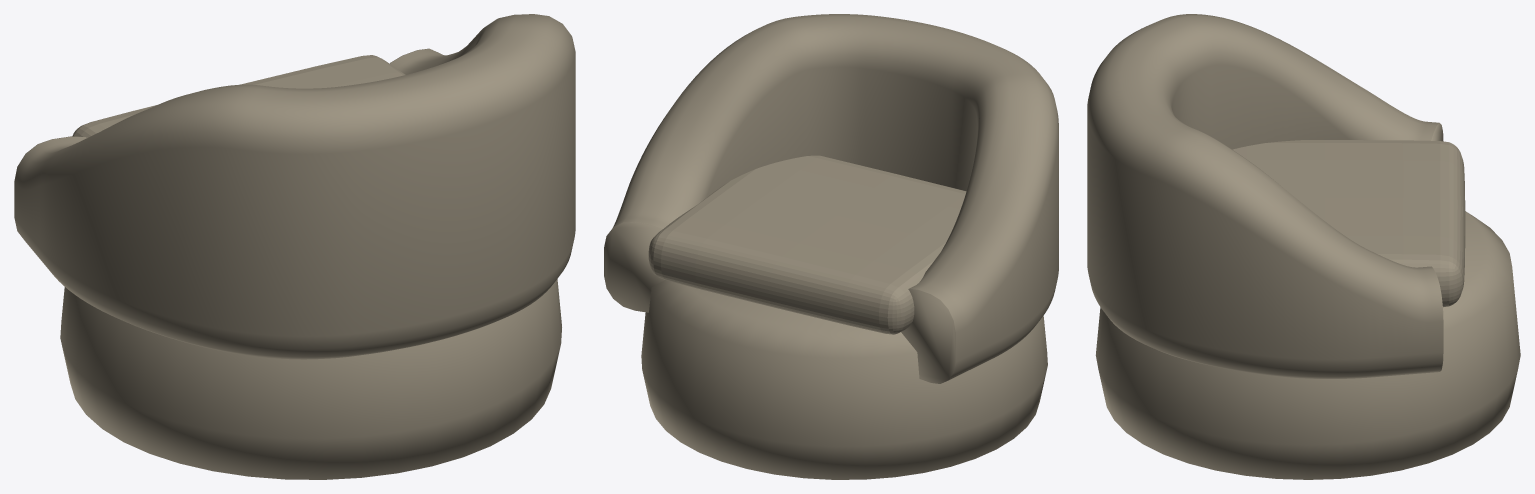
File: lounge-chair.glb
3 views of the same model, side by side, from view 1: azimuth 30°, elevation 25°; view 2: azimuth 150°, elevation 25°; view 3: azimuth 270°, elevation 25° (orthographic). The views are drawn at different scales.
Parts seen in each view (by area): view 1: chair_shell, chair_base, chair_cushion; view 2: chair_shell, chair_base, chair_cushion; view 3: chair_shell, chair_base, chair_cushion.
Part boxes in pixels (bbox=[...]): chair_shell: bbox=[14, 14, 575, 359]; chair_base: bbox=[60, 279, 561, 479]; chair_cushion: bbox=[72, 55, 405, 137]; chair_shell: bbox=[604, 14, 1058, 383]; chair_base: bbox=[641, 280, 1047, 479]; chair_cushion: bbox=[648, 155, 966, 334]; chair_shell: bbox=[1087, 14, 1443, 378]; chair_base: bbox=[1095, 211, 1520, 479]; chair_cushion: bbox=[1232, 140, 1465, 307].
Bounding box in the file's own units: 1.08 × 0.82 × 1.02.
